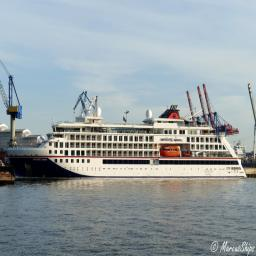cruises: (7, 94, 249, 184)
